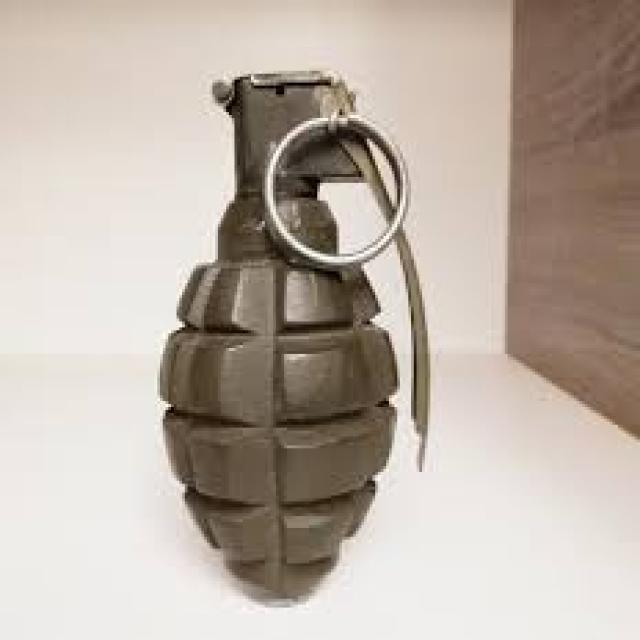grenade: (156, 57, 448, 619)
